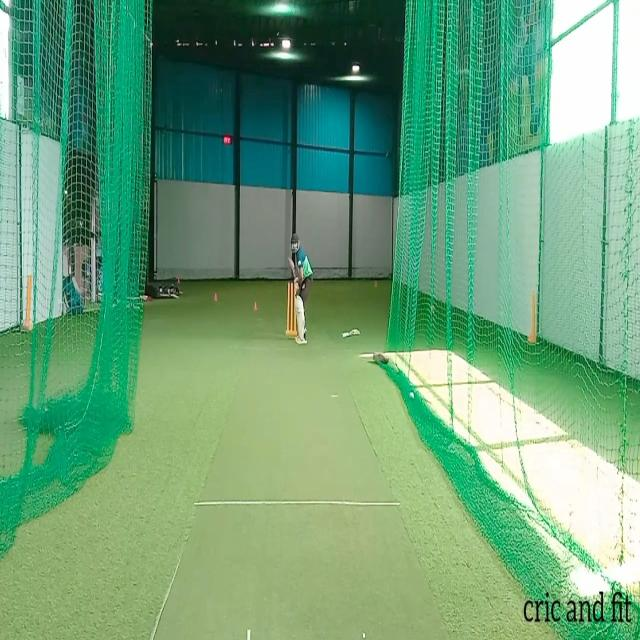batsman: (287, 232, 314, 346)
